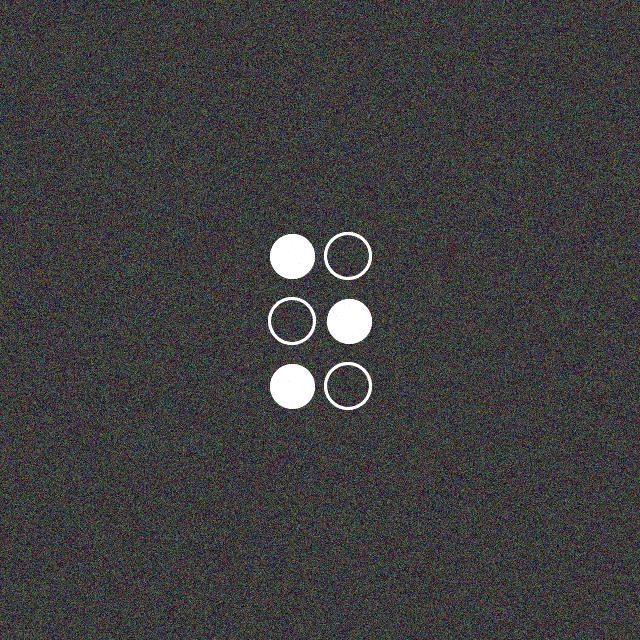O: (266, 232, 374, 416)
